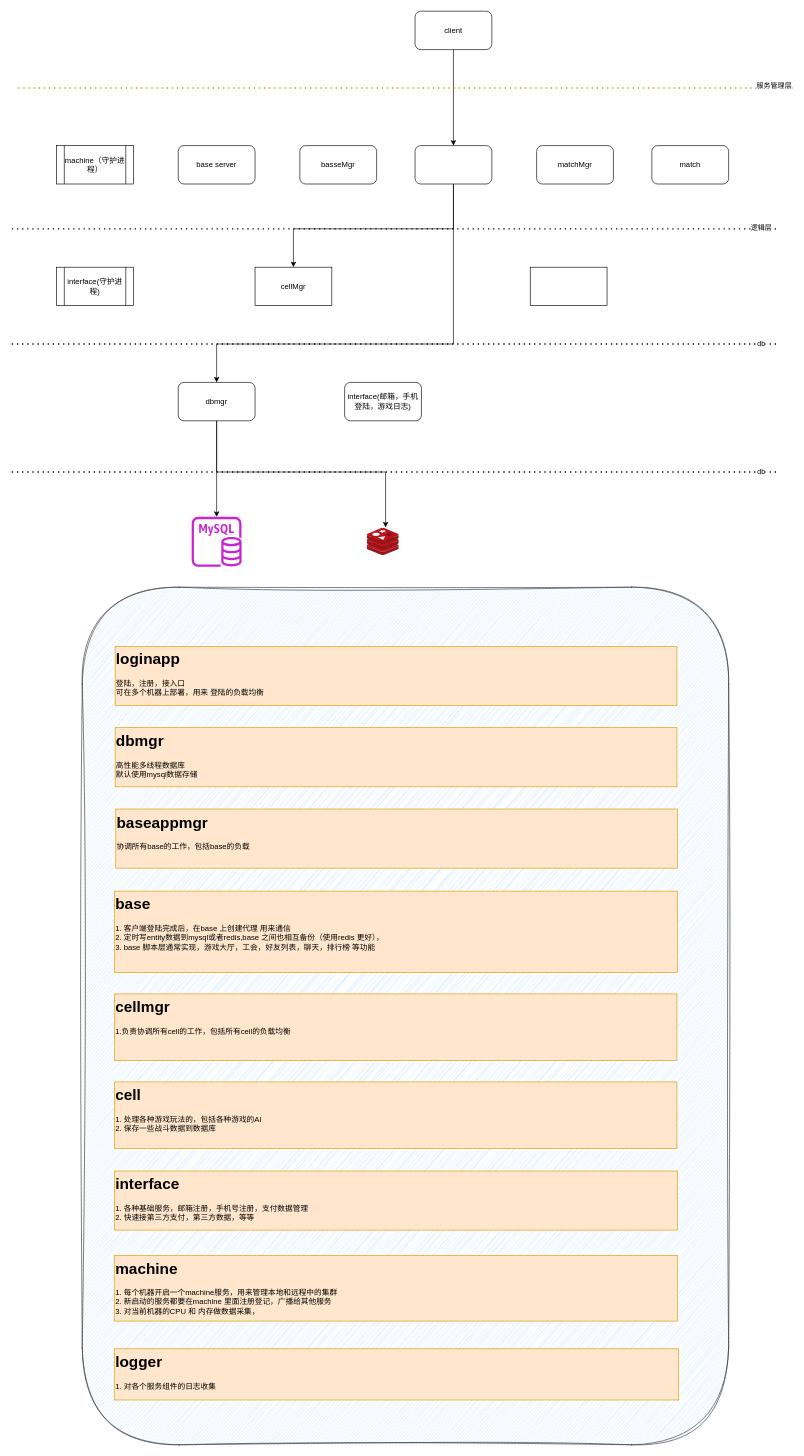
Some shapes in this 804 by 1456 pixel diagram are drawn without their labels. Each missing label, with the centre of its shape:
cell(战斗服): the point at 568,286
login server: the point at 453,164
